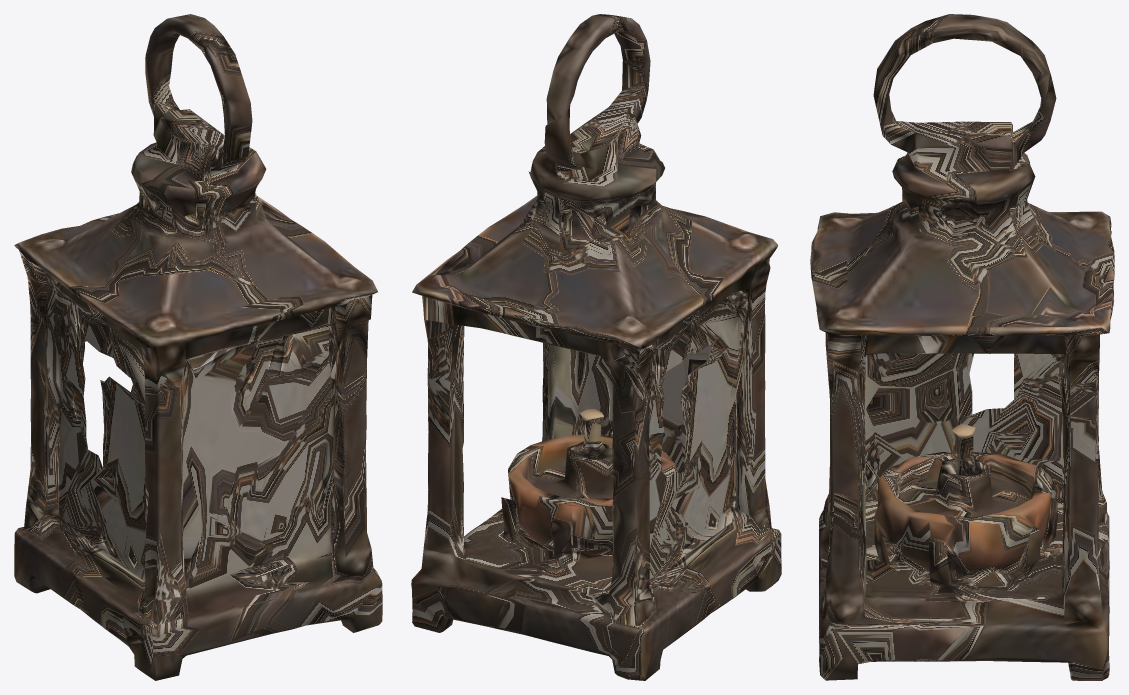
Rendered from portable-lantern-tripo.glb.
3 renders of one model, left to right at view 1: azimuth 30°, elevation 25°; view 2: azimuth 150°, elevation 25°; view 3: azimuth 270°, elevation 25°, orthographic. The views are drawn at different scales.
Parts seen in each view (by area): view 1: tripo_node_225bfd29-e9c1-4f77-a13e-59856e809066; view 2: tripo_node_225bfd29-e9c1-4f77-a13e-59856e809066; view 3: tripo_node_225bfd29-e9c1-4f77-a13e-59856e809066.
Boxes of the visible parts, left/top/right/bottom form: tripo_node_225bfd29-e9c1-4f77-a13e-59856e809066: left=14, top=14, right=382, bottom=680; tripo_node_225bfd29-e9c1-4f77-a13e-59856e809066: left=411, top=14, right=781, bottom=680; tripo_node_225bfd29-e9c1-4f77-a13e-59856e809066: left=810, top=14, right=1114, bottom=680.
Size of the model in its own units: 0.4231 by 0.9984 by 0.455.
1 material, 1 textured.
